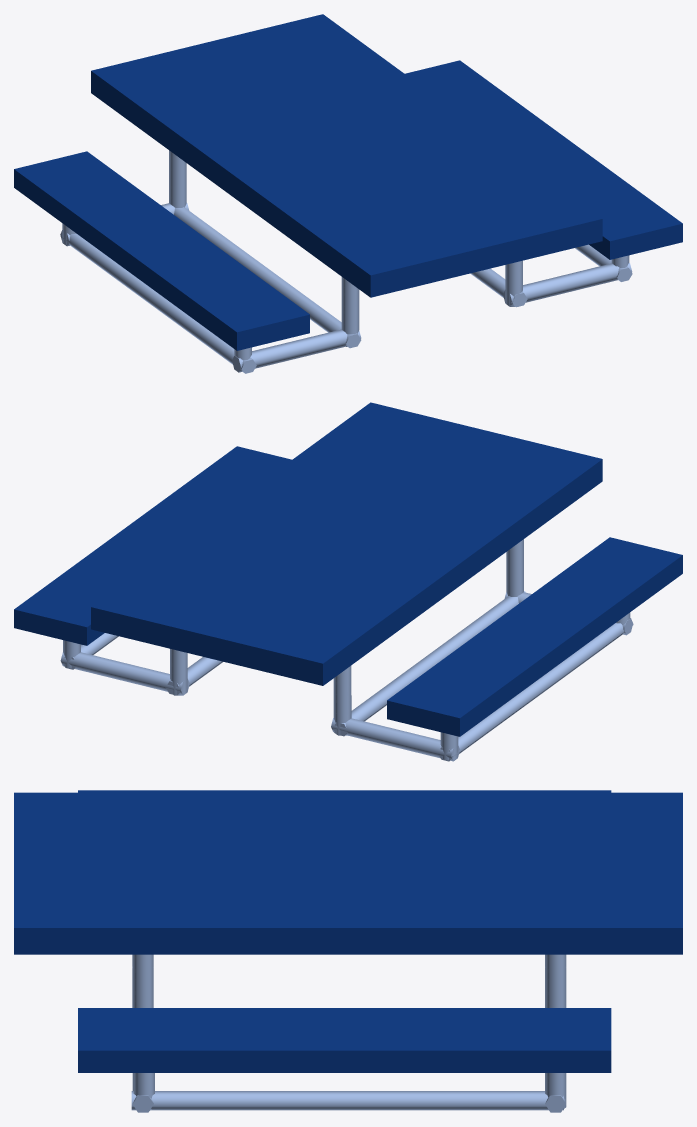
File: TableFixed.FBX
The picture shows the model from 3 angles, top to bottom: view 1: azimuth 30°, elevation 25°; view 2: azimuth 150°, elevation 25°; view 3: azimuth 270°, elevation 25°; orthographic projection. The views are drawn at different scales.
Parts seen in each view (by area): view 1: Box007, Box013, Box014, Cylinder014, Cylinder012, Cylinder020, Cylinder024, Cylinder009, Cylinder013, Cylinder007, Cylinder017, Cylinder021 (+1 smaller); view 2: Box007, Box013, Box014, Cylinder014, Cylinder018, Cylinder025, Cylinder009, Cylinder024, Cylinder007, Cylinder013, Cylinder016, Cylinder017; view 3: Box007, Box014, Cylinder022, Box013, Cylinder021, Cylinder016, Cylinder015, Cylinder019.
Part boxes in pixels (x1,y1,x2,y2): Box007: (91,14,602,297); Box013: (14,151,309,350); Box014: (405,60,682,259); Cylinder014: (61,233,256,373); Cylinder012: (232,329,361,372); Cylinder020: (503,263,632,305); Cylinder024: (175,207,361,348); Cylinder009: (174,208,349,347); Cylinder013: (341,277,359,346); Cylinder007: (169,150,186,207); Cylinder017: (470,268,527,307); Cylinder021: (505,260,522,306); Box007: (91,402,602,685); Box013: (387,537,682,736); Box014: (14,446,291,645); Cylinder014: (439,623,633,761); Cylinder018: (60,652,189,695); Cylinder025: (331,718,459,761); Cylinder009: (333,592,524,736); Cylinder024: (343,591,525,723); Cylinder007: (333,666,351,735); Cylinder013: (506,539,523,596); Cylinder016: (170,649,187,695); Cylinder017: (166,657,223,695); Box007: (14,792,682,954); Box014: (78,1008,611,1072); Cylinder022: (131,1091,563,1110); Box013: (78,790,611,792); Cylinder021: (132,954,153,1007); Cylinder016: (545,954,566,1007); Cylinder015: (545,1073,566,1108); Cylinder019: (133,1073,154,1110).
Bounding box in the file's own units: 405 × 101 × 440.
